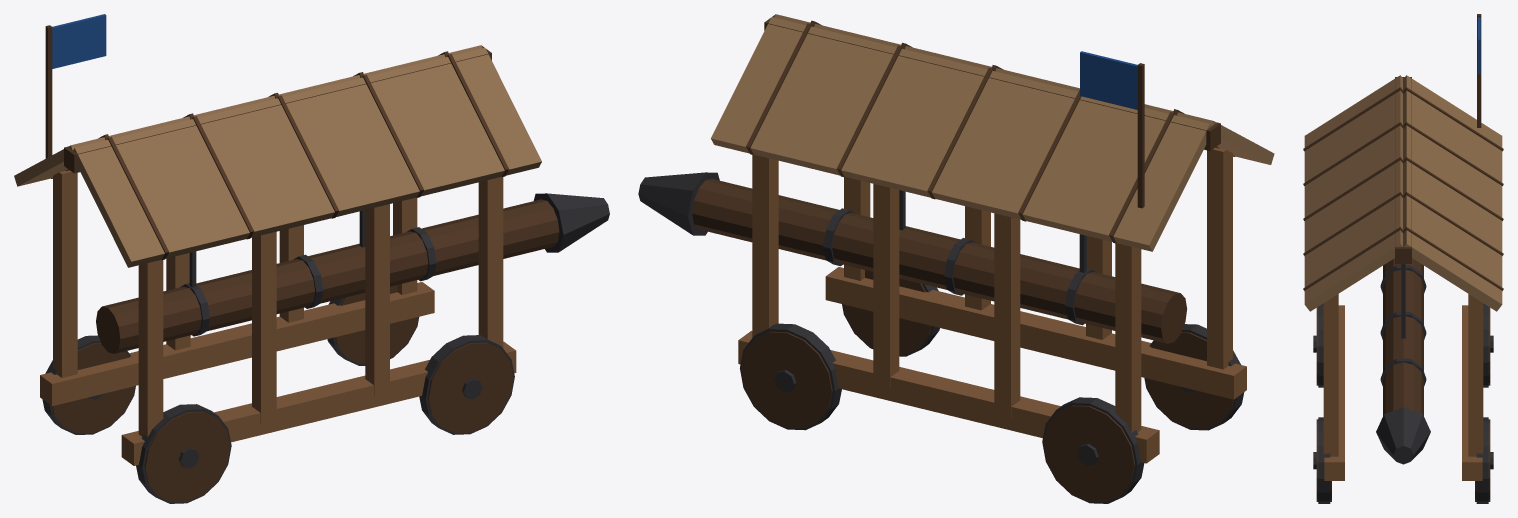
The model's file is taran_isl.glb.
3 views of the same model, side by side, from view 1: azimuth 30°, elevation 25°; view 2: azimuth 150°, elevation 25°; view 3: azimuth 270°, elevation 25° (orthographic). The views are drawn at different scales.
Parts seen in each view (by area): view 1: Body, Log; view 2: Body, Log; view 3: Body, Log.
Boxes of the visible parts, left/top/right/bottom form: Body: left=14, top=14, right=541, bottom=503; Log: left=96, top=193, right=609, bottom=353; Body: left=711, top=14, right=1274, bottom=503; Log: left=638, top=172, right=1186, bottom=343; Body: left=1303, top=14, right=1503, bottom=503; Log: left=1376, top=258, right=1430, bottom=464.
Bounding box in the file's own units: 7.55 × 5.63 × 2.91.
